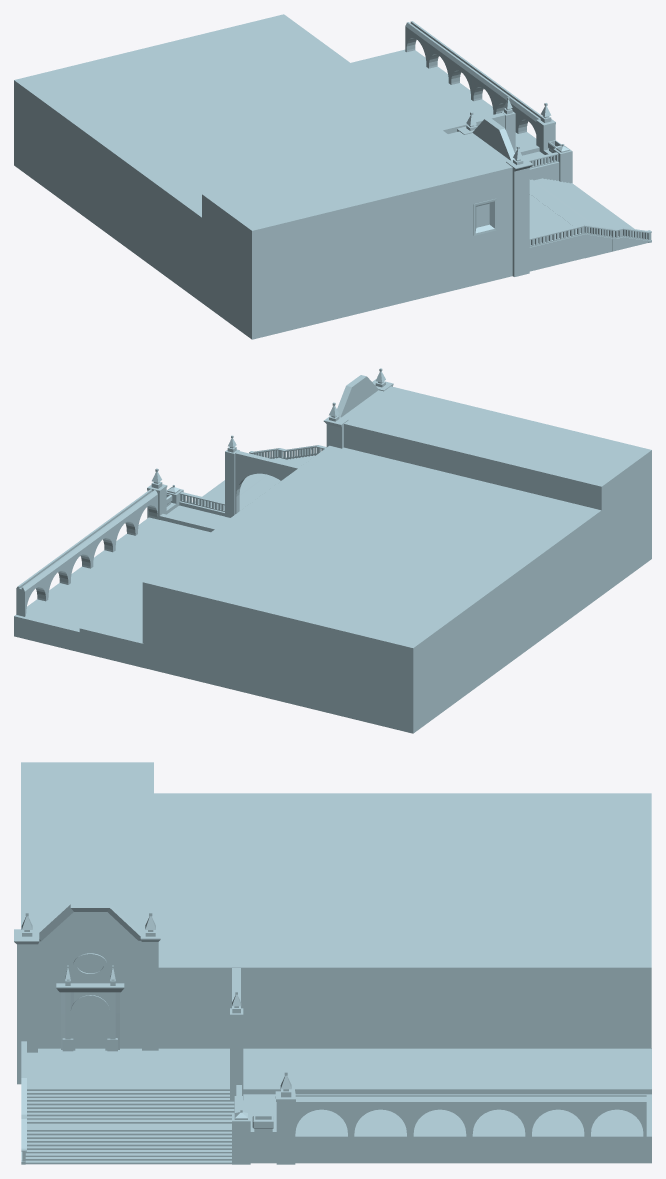
File: teatroJRR_f_mat_2x.gltf
3 views of the same model, one above another, from view 1: azimuth 30°, elevation 25°; view 2: azimuth 150°, elevation 25°; view 3: azimuth 270°, elevation 25° (orthographic). The views are drawn at different scales.
Parts seen in each view (by area): view 1: volumen; view 2: volumen; view 3: volumen.
Boxes of the visible parts, bbox=[...] form: volumen: bbox=[14, 14, 651, 339]; volumen: bbox=[14, 368, 651, 733]; volumen: bbox=[14, 762, 651, 1164].
Size of the model in its own units: 233 by 73.2 by 243.
